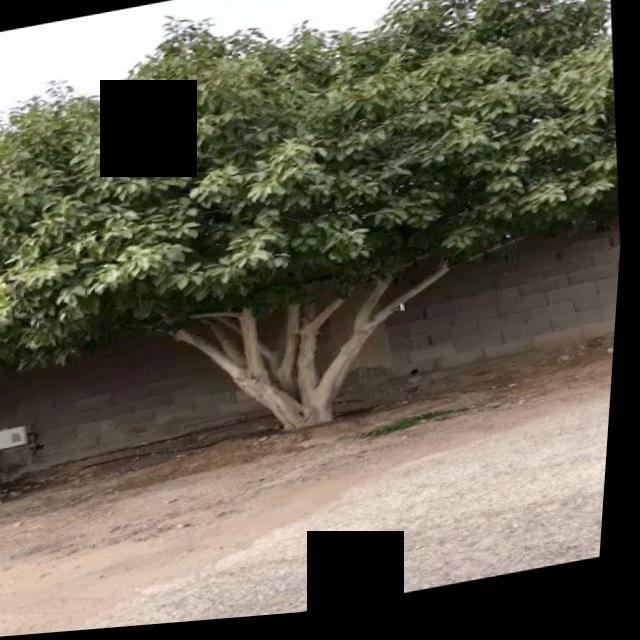Tree: (1, 1, 640, 490)
